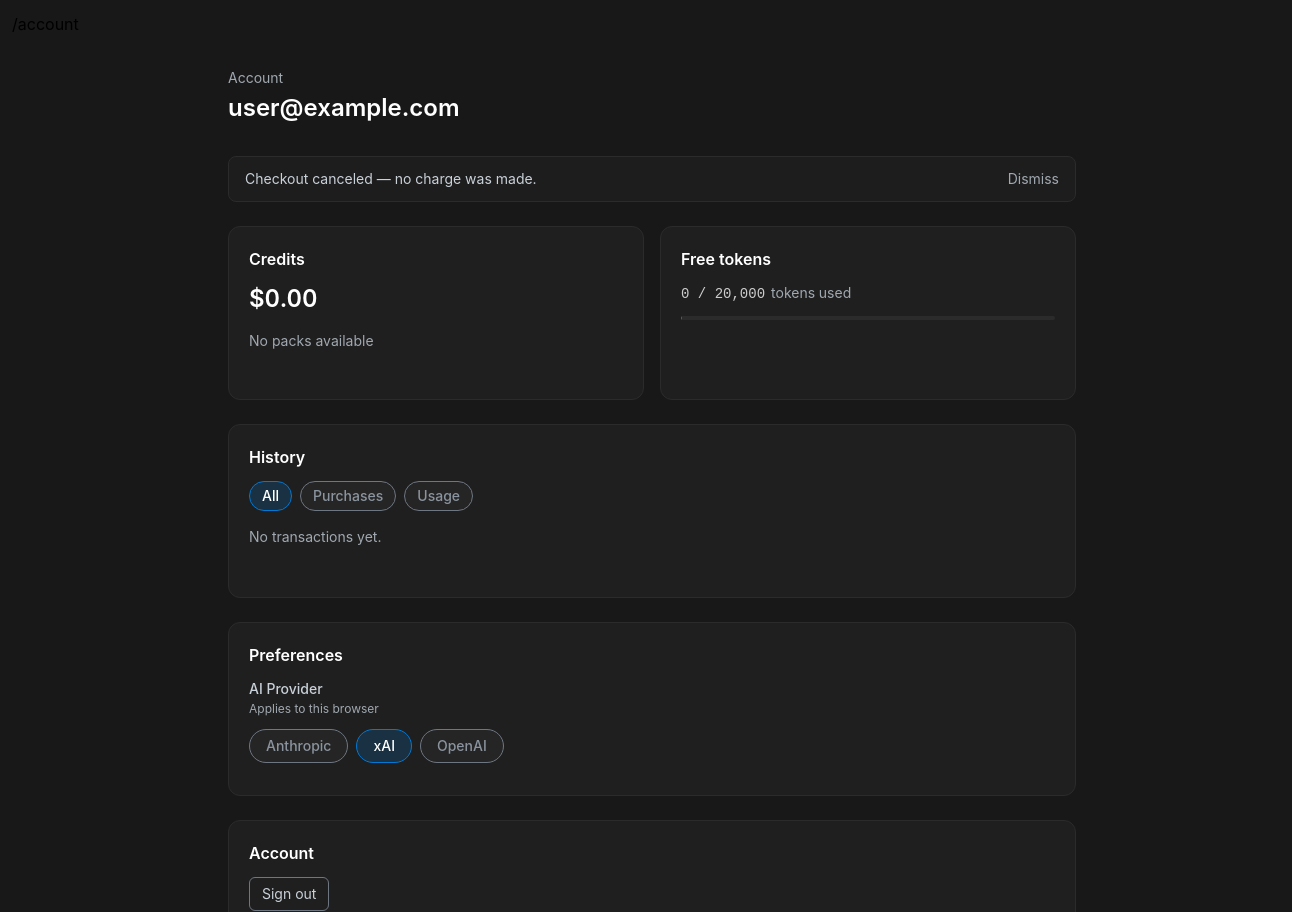
it: AccountPage post-checkout flow › ?checkout=cancel shows quiet notice, clears baseline, and starts no poll
The width and height of the screenshot is (1292, 912).
Check: the message with test id "account-post-checkout-banner" shows "Checkout canceled — no charge was made.", box [245, 170, 537, 187]
Click the button "Dismiss" at (1033, 179), box [1008, 169, 1059, 189]
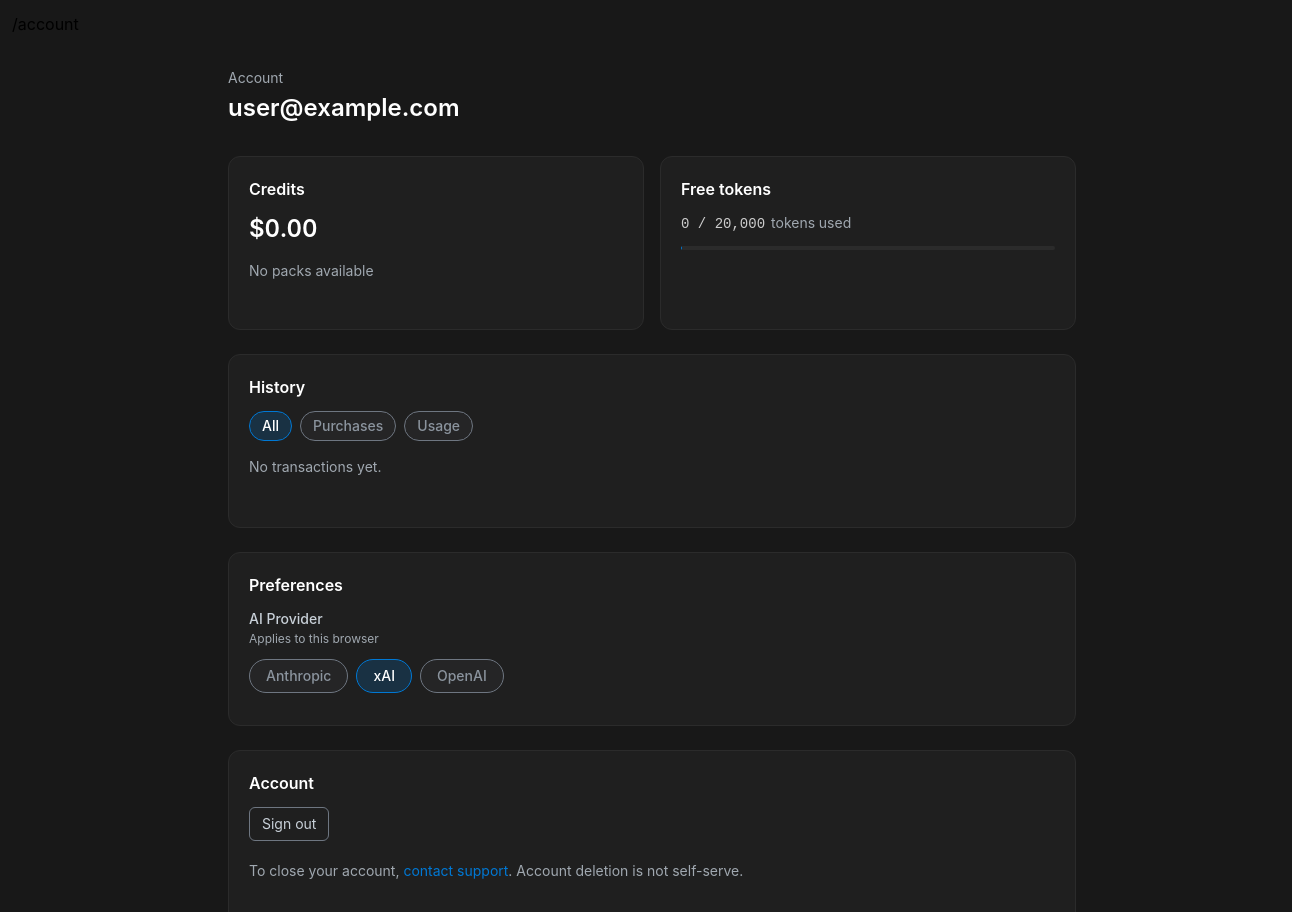
Check: the message with test id "account-post-checkout-banner" is gone
